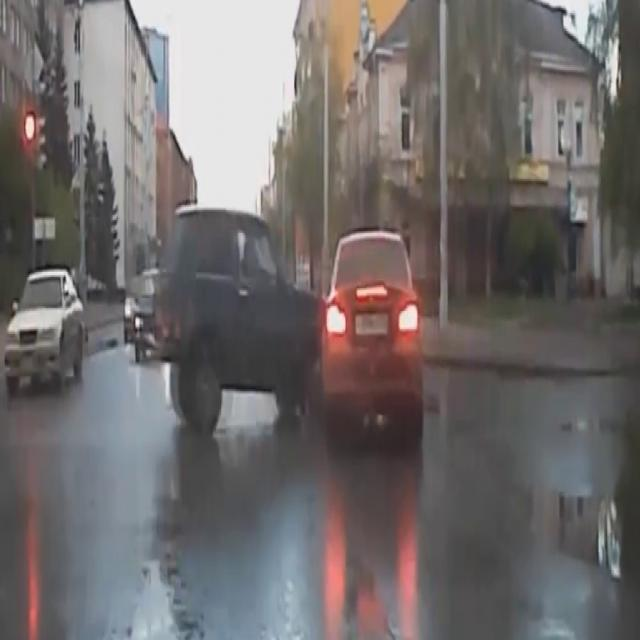accident: (157, 178, 435, 458)
